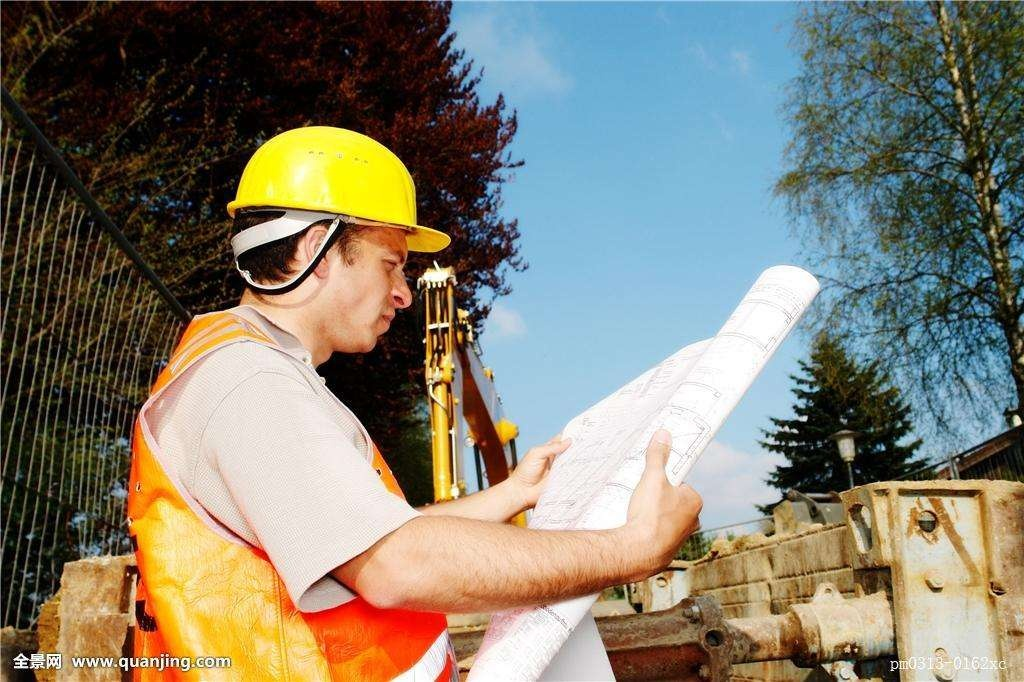yellow: (222, 116, 441, 365)
